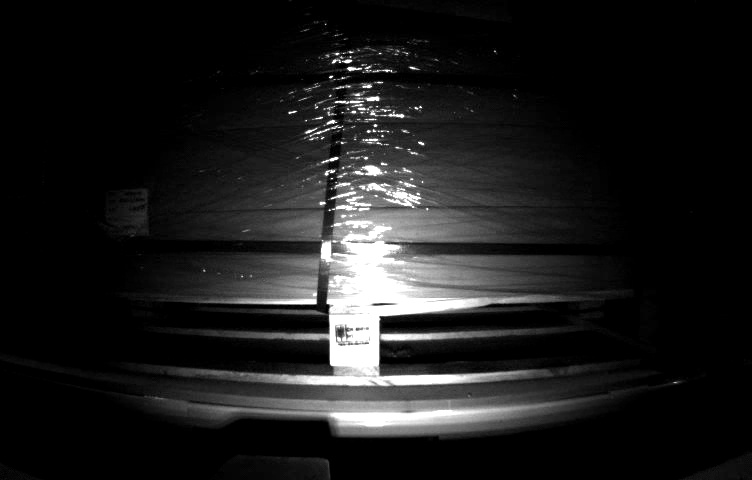True Barcode: (100, 182, 155, 239)
